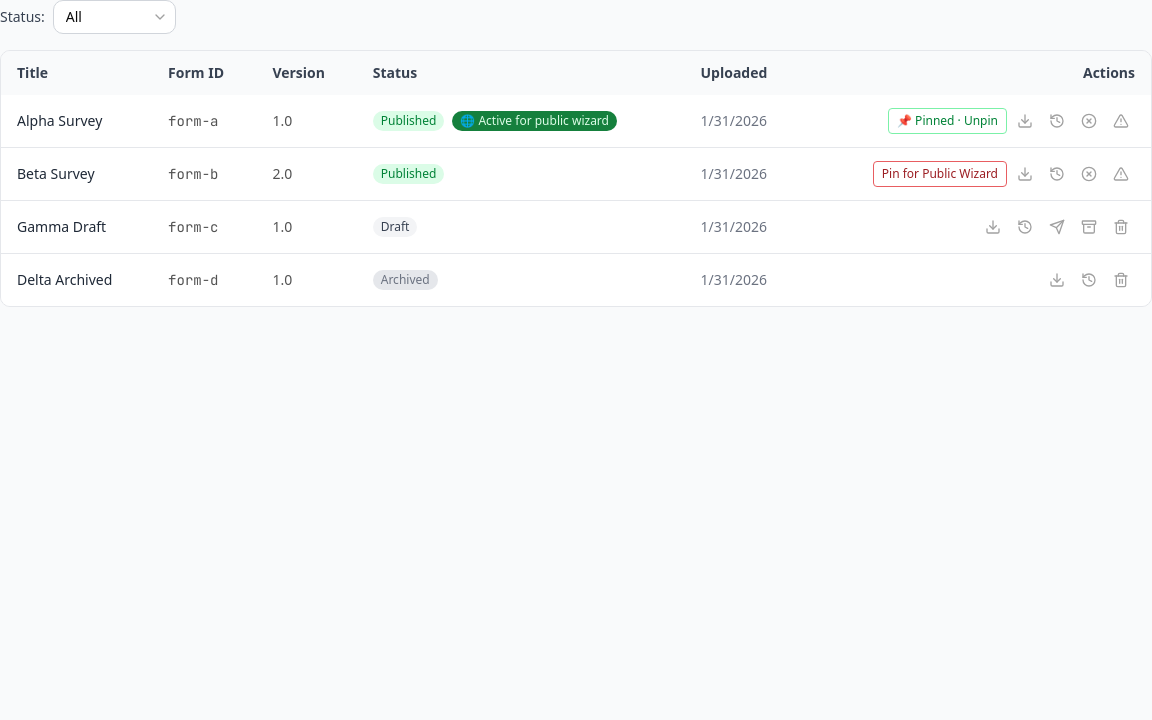
Test: QuestionnaireList — public-wizard pin (Story 9-17) › 9. clicking Unpin opens the dialog with the unpin-warning body
Click the button with test id "qm-unpin-button" at (948, 121), box [888,108,1007,134]
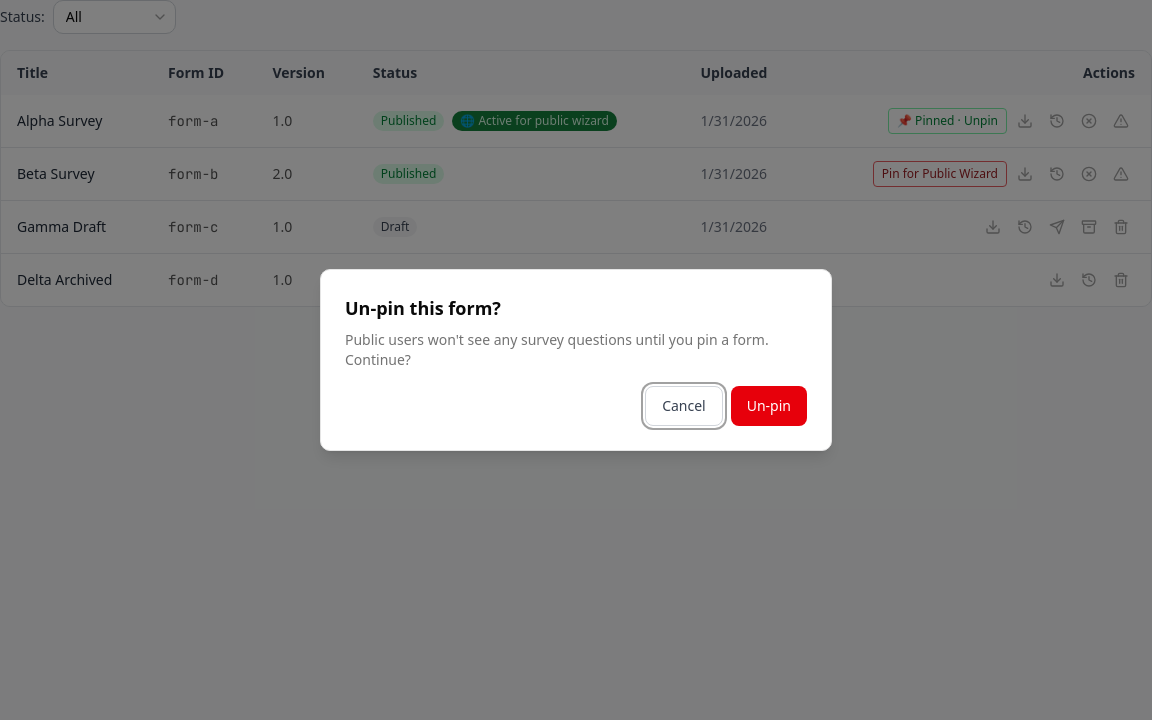
Check: the heading "Un-pin this form?" is shown, box [345,296,501,320]
Check: the text "Public users won't see any survey questions until you pin a form" is shown, box [345,330,769,369]
